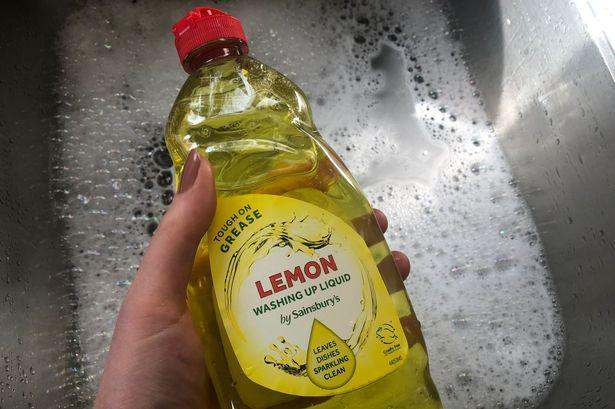plastic: (152, 7, 440, 408)
